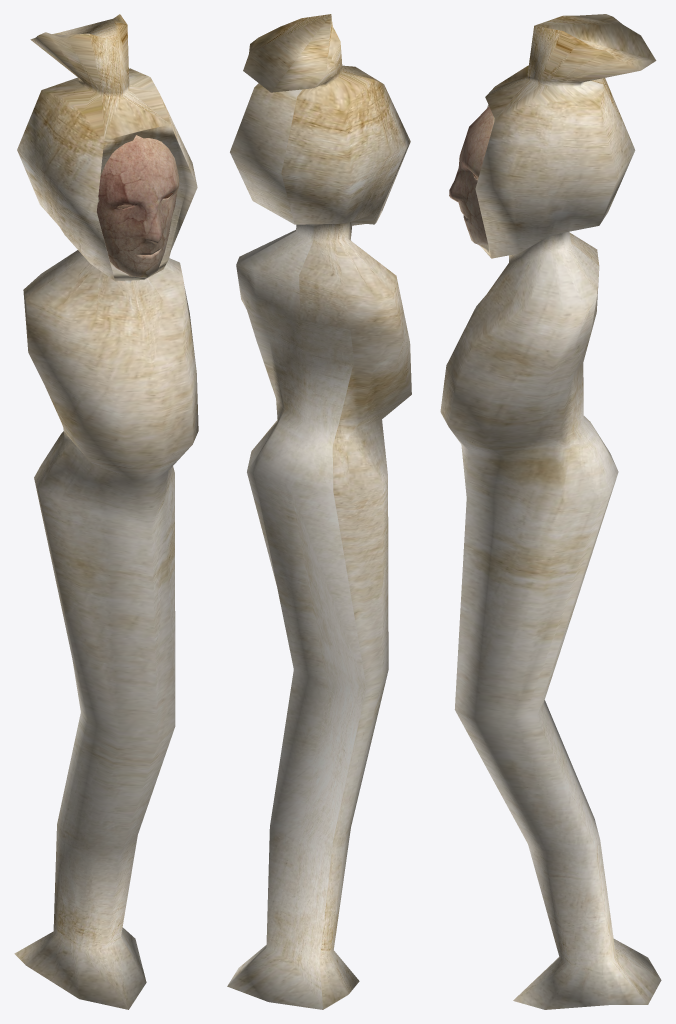
Rendered from pocong.fbx.
3 renders of one model, left to right at view 1: azimuth 30°, elevation 25°; view 2: azimuth 150°, elevation 25°; view 3: azimuth 270°, elevation 25°, orthographic.
Visible parts, largest first — view 1: Cube, Mesh.001; view 2: Cube; view 3: Cube, Mesh.001.
Part boxes in pixels (x1,y1,x2,y2): Cube: (14,14,198,1009); Mesh.001: (97,135,179,277); Cube: (227,14,411,1009); Cube: (440,14,661,1009); Mesh.001: (449,106,493,245).
Bounding box in the file's own units: 182 × 1034 × 212.
